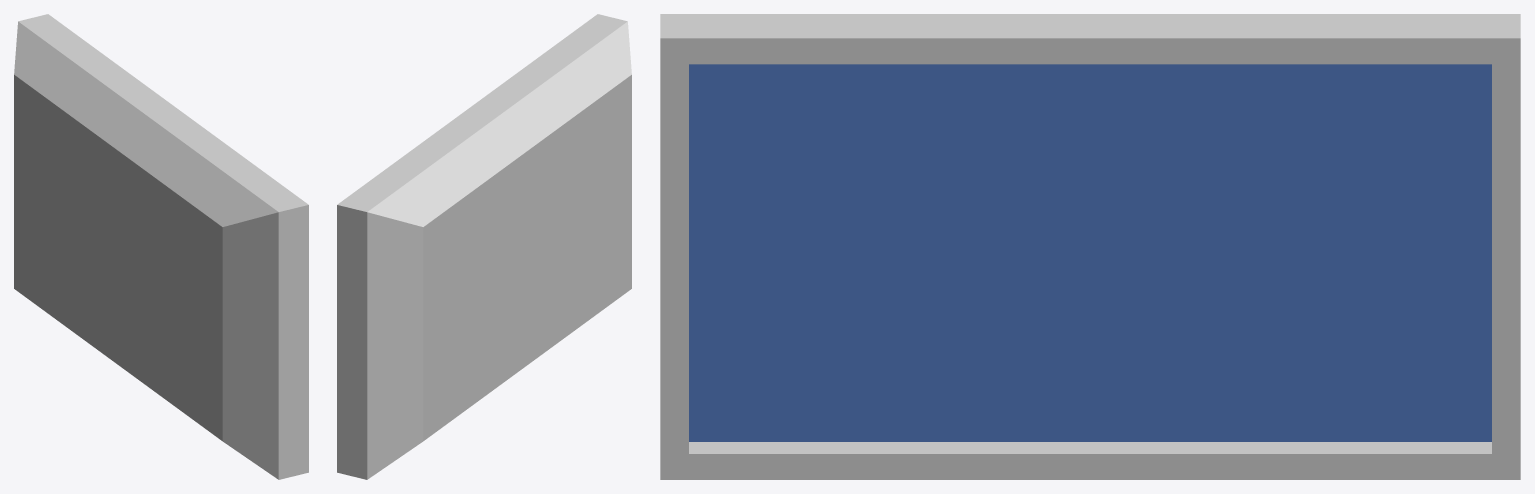
The model's file is Screen1.fbx.
3 renders of one model, left to right at view 1: azimuth 30°, elevation 25°; view 2: azimuth 150°, elevation 25°; view 3: azimuth 270°, elevation 25°, orthographic. The views are drawn at different scales.
Parts seen in each view (by area): view 1: Cube.002; view 2: Cube.002; view 3: Cube.002.
Boxes of the visible parts, left/top/right/bottom form: Cube.002: left=14, top=14, right=308, bottom=479; Cube.002: left=337, top=14, right=631, bottom=479; Cube.002: left=660, top=14, right=1520, bottom=479.
Size of the model in its own units: 150 by 20 by 85.
